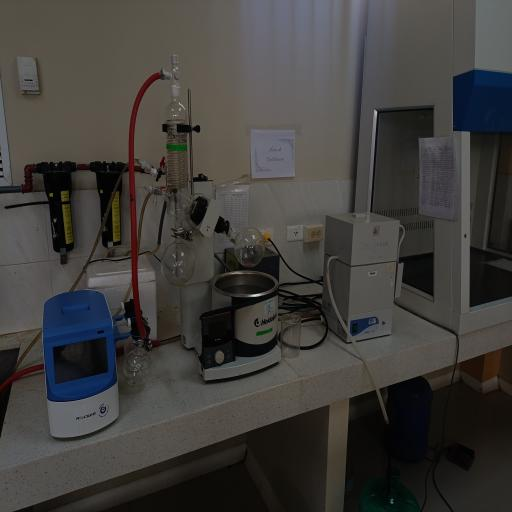Destilador_agua: (316, 200, 408, 352)
